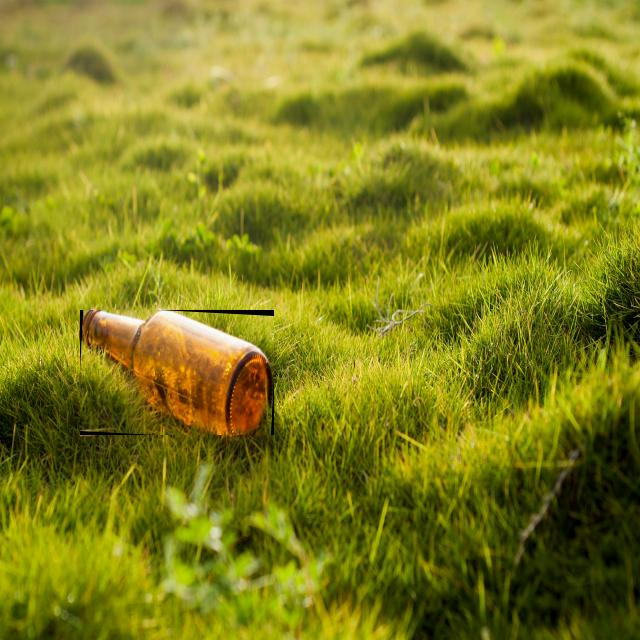Bottle: (79, 311, 272, 434)
